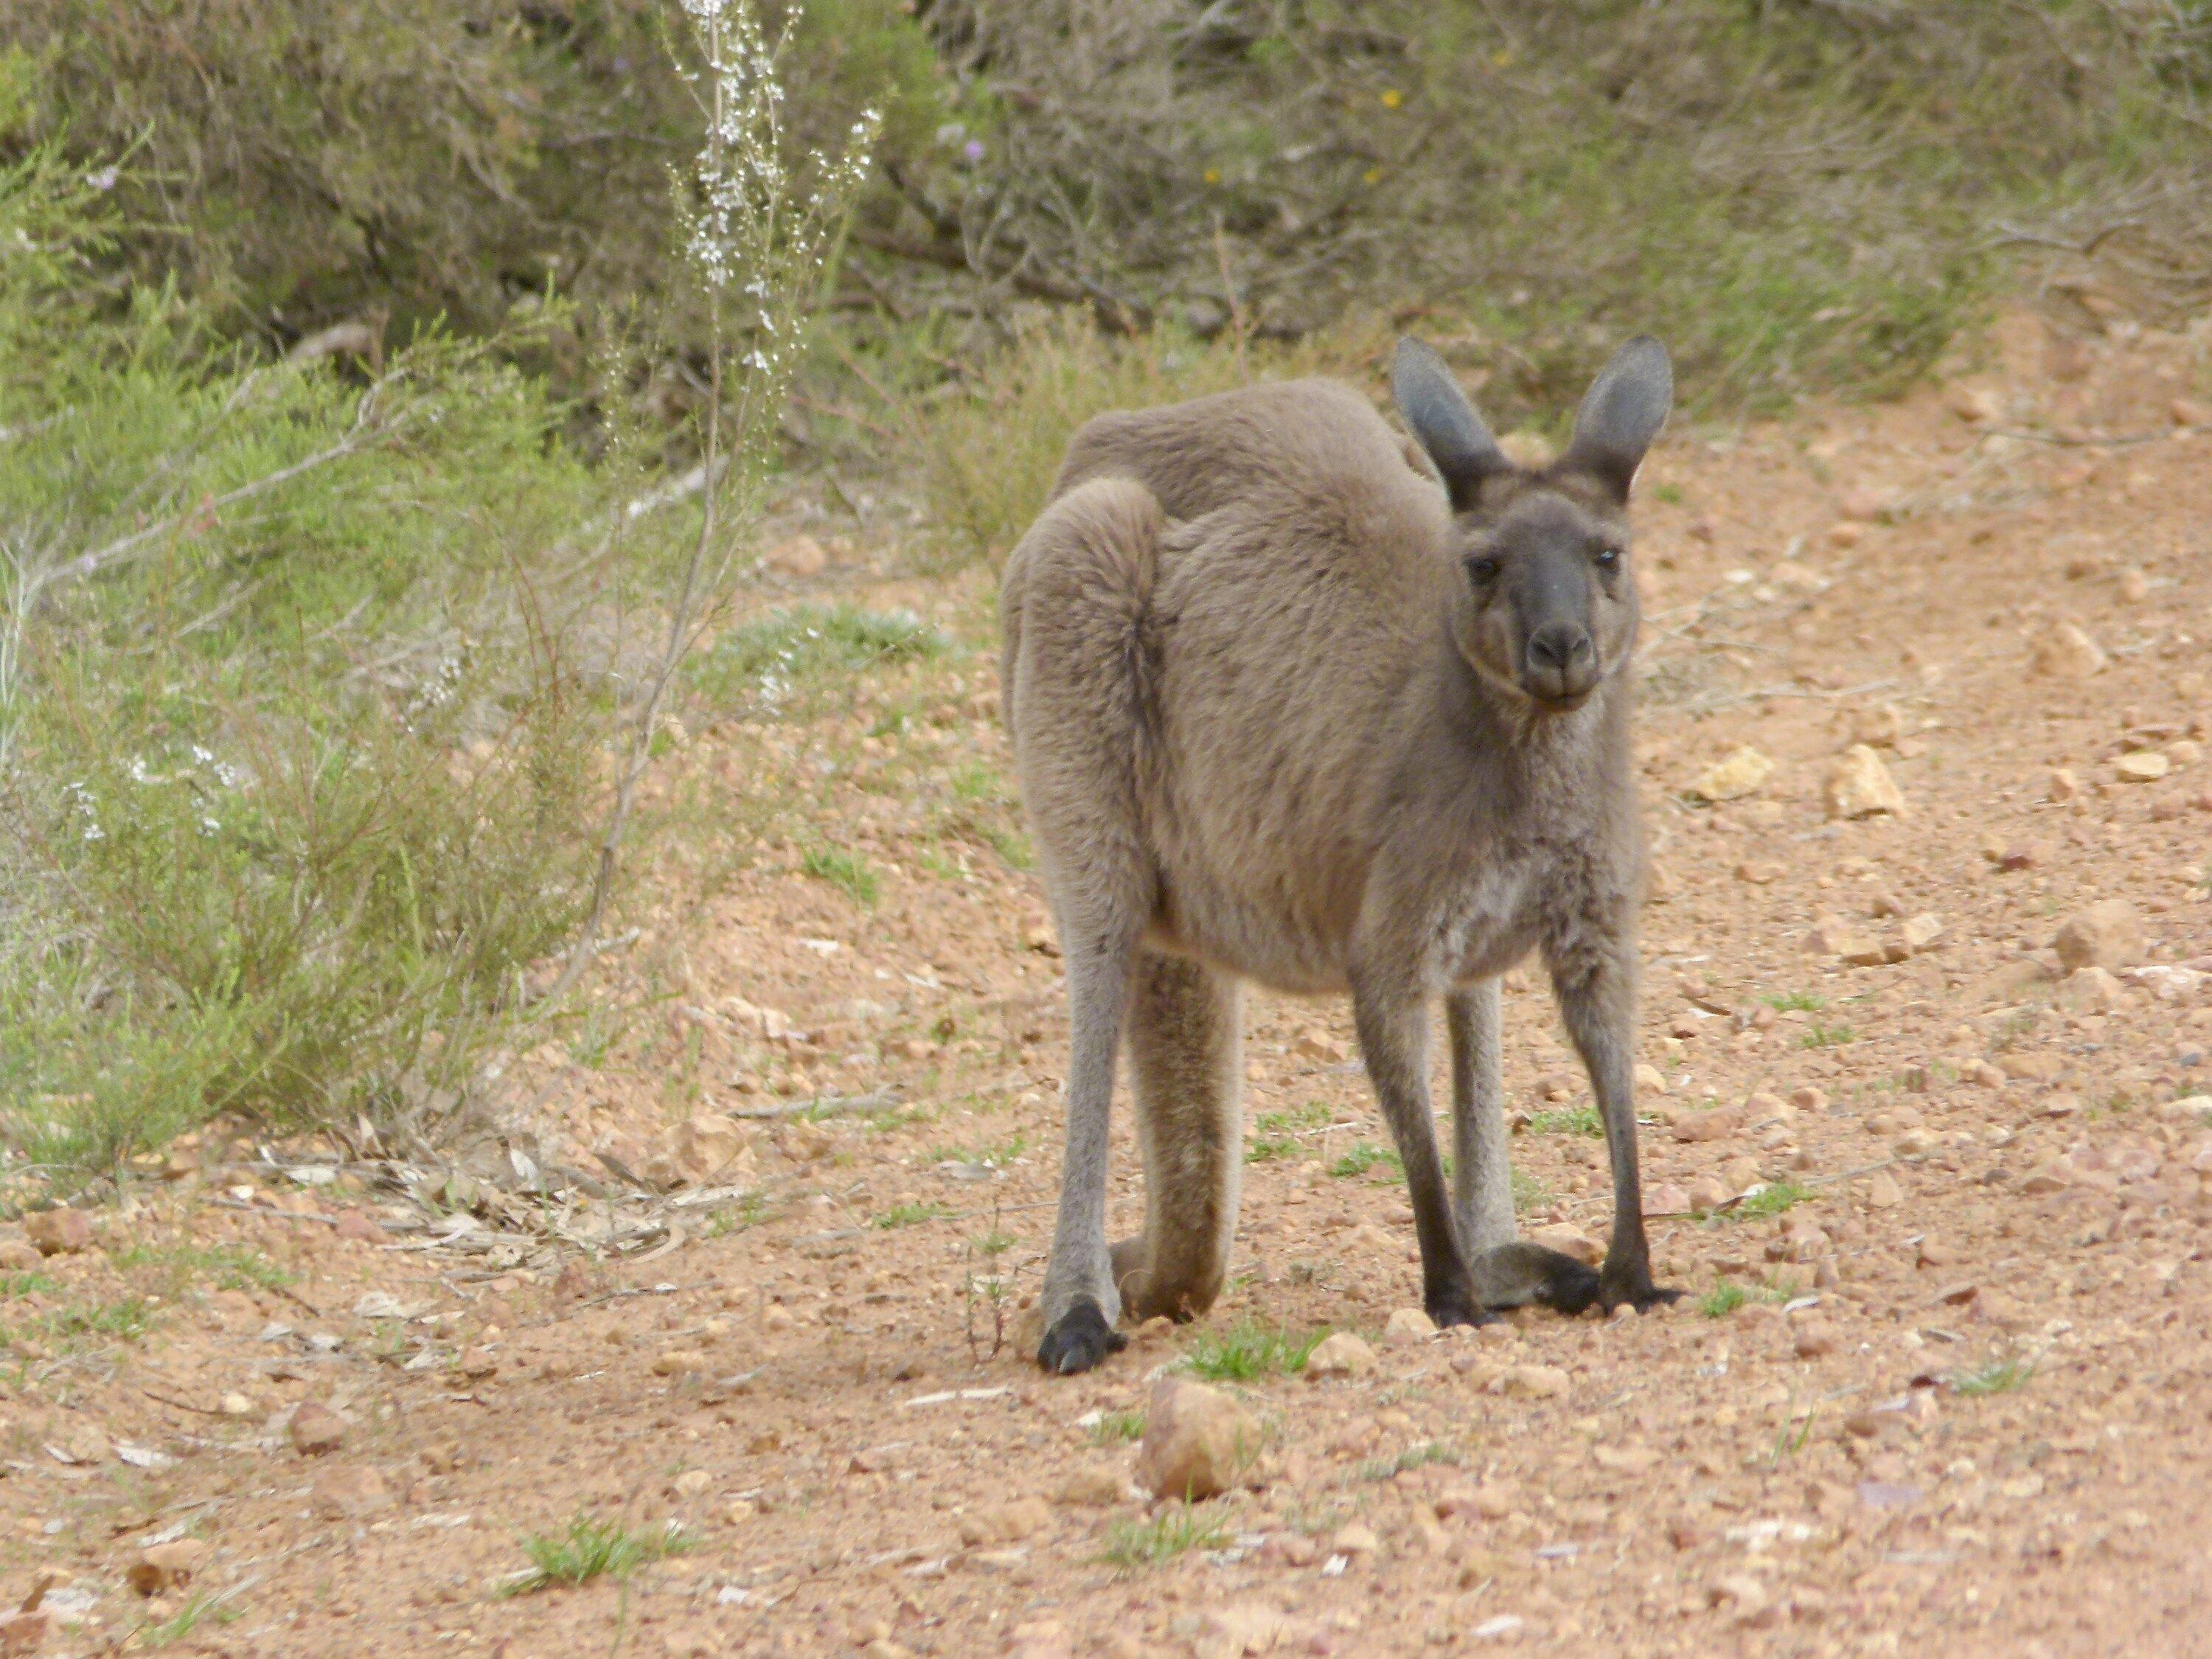Western grey kangaroo: (1003, 331, 1691, 1378)
